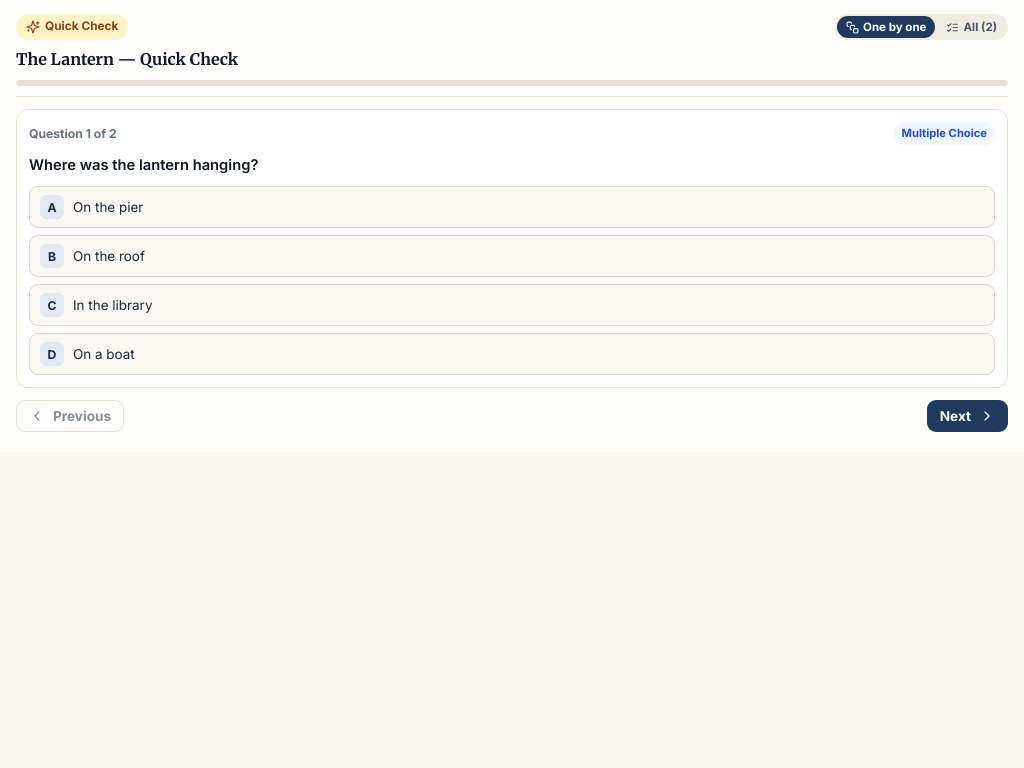
Test case: QuizPage › supports switching to All together mode and prevents flip propagation
Press the mouse on the element that starts with "Quick Check" at coordinates (512, 226), box [0,0,1023,452]
Click the button "All (2)" at coordinates (972, 27), box [938,16,1006,38]
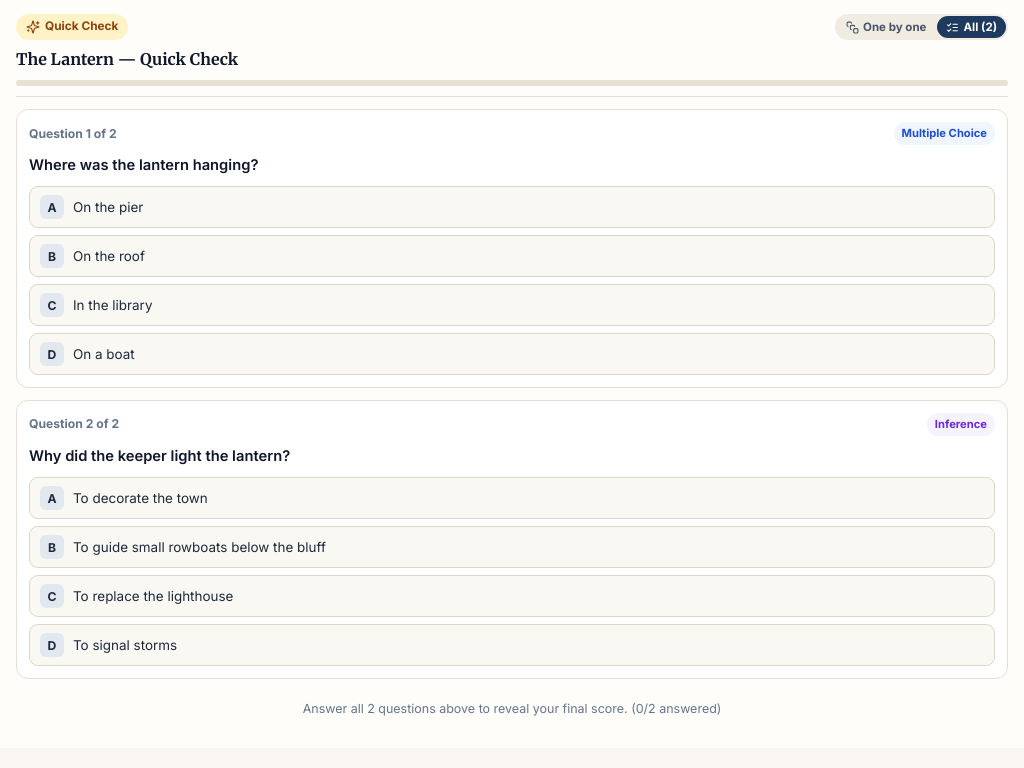
Expected: the text "Where was the lantern hanging?" is shown, [29,156,258,174]
Expected: the text "Why did the keeper light the lantern?" is shown, [29,447,290,465]
